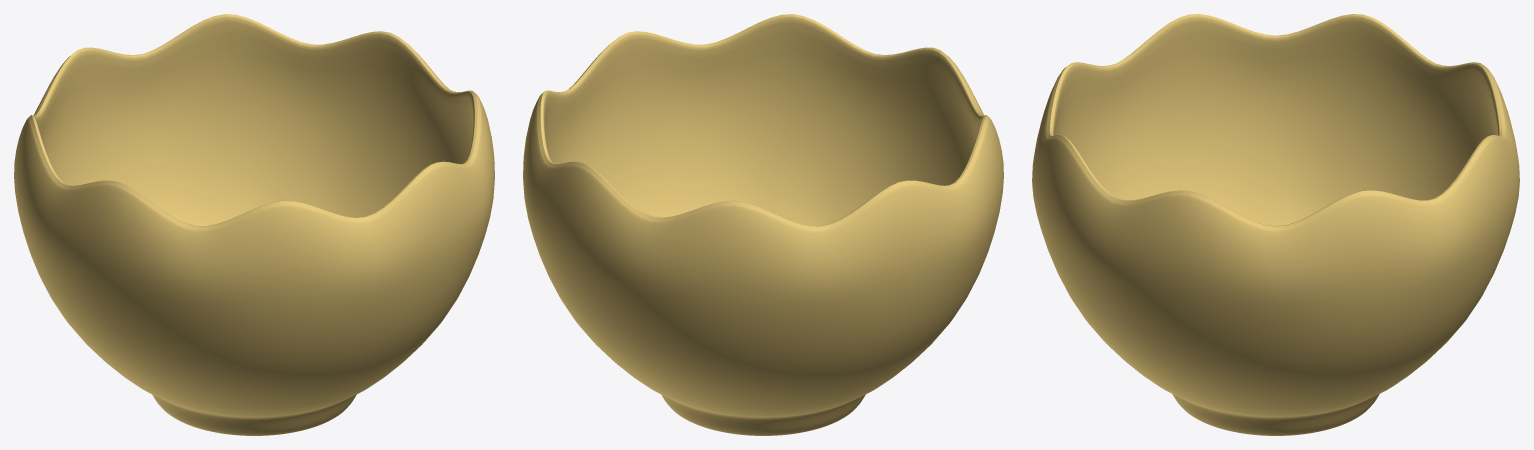
The model's file is bowl_V2.fbx.
3 renders of one model, left to right at view 1: azimuth 30°, elevation 25°; view 2: azimuth 150°, elevation 25°; view 3: azimuth 270°, elevation 25°, orthographic.
Parts seen in each view (by area): view 1: bowl_V2_GEO_01; view 2: bowl_V2_GEO_01; view 3: bowl_V2_GEO_01.
Part boxes in pixels (x1,y1,x2,y2): bowl_V2_GEO_01: (14, 14, 494, 435); bowl_V2_GEO_01: (523, 14, 1003, 435); bowl_V2_GEO_01: (1032, 14, 1519, 435).
Size of the model in its own units: 8.95 by 5.95 by 8.95.
